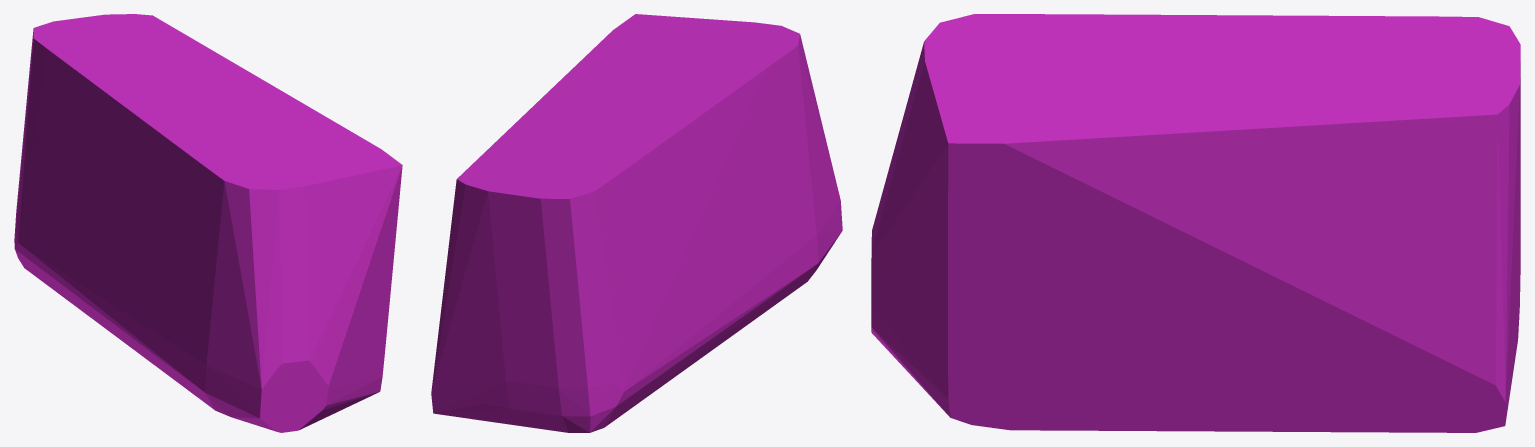
Rendered from converted_Downdraft_Assy_collision_31_cb2cc5ff.obj.
3 views of the same model, side by side, from view 1: azimuth 30°, elevation 25°; view 2: azimuth 150°, elevation 25°; view 3: azimuth 270°, elevation 25° (orthographic). The views are drawn at different scales.
Bounding box in the file's own units: 0.1093 × 0.139 × 0.2522.
